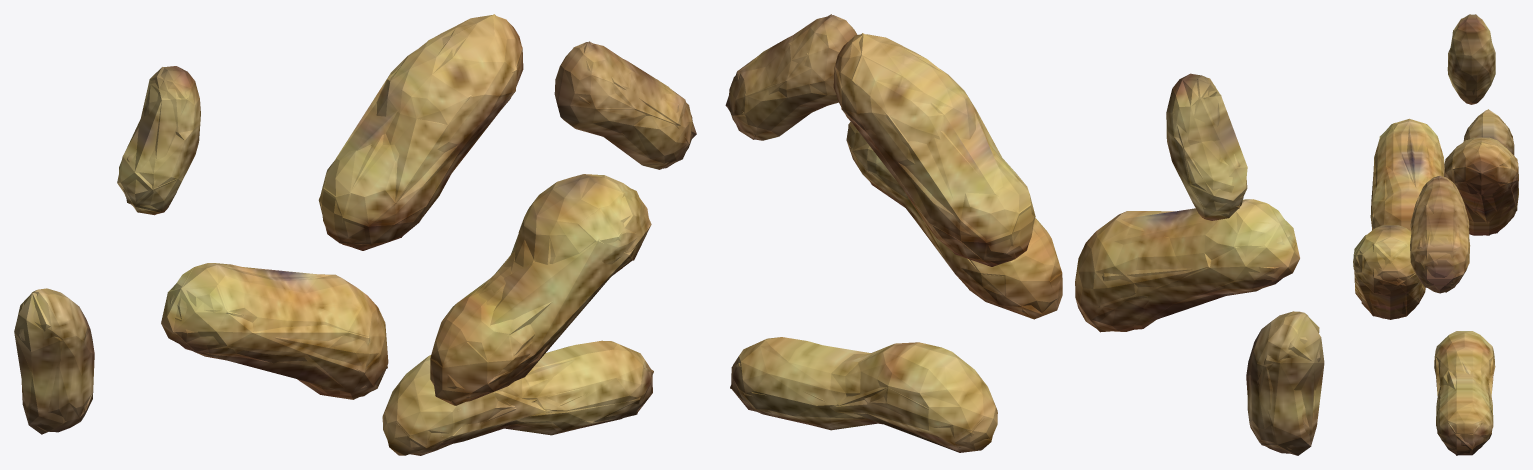
Rendered from imp-nuts.glb.
The picture shows the model from 3 angles, left to right: view 1: azimuth 30°, elevation 25°; view 2: azimuth 150°, elevation 25°; view 3: azimuth 270°, elevation 25°; orthographic projection. The views are drawn at different scales.
Parts seen in each view (by area): view 1: Kerbside_metres_ground_pivot (×3); view 2: Kerbside_metres_ground_pivot (×3); view 3: Kerbside_metres_ground_pivot (×3).
Part boxes in pixels (x1,y1,x2,y2): Kerbside_metres_ground_pivot (×3): (14,14,696,455); Kerbside_metres_ground_pivot (×3): (725,14,1324,455); Kerbside_metres_ground_pivot (×3): (1353,14,1518,455).
Bounding box in the file's own units: 0.15 × 0.1022 × 0.0522.
1 material, 1 textured.
